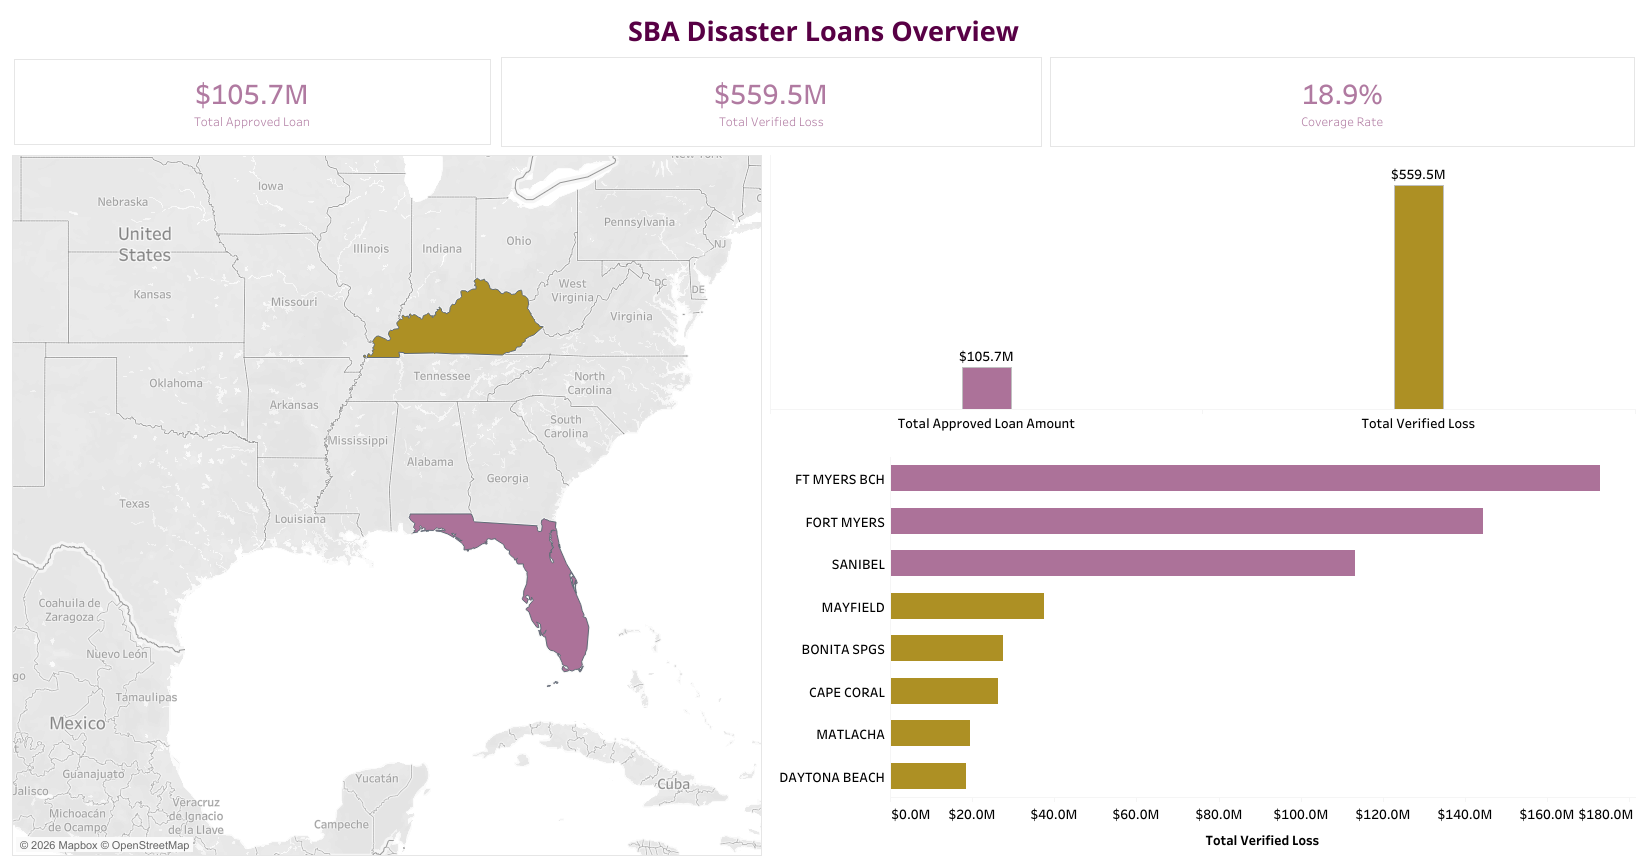

Layout of this report page (visuals, bound fields, positions):
{"tool":"tableau","page":{"name":"Dashboard 1","canvas":[1000,1000],"units":"permille","ordinal":0},"visuals":[{"type":"title","box":[4.9,9.2,990.3,51.9]},{"type":"worksheet","title":"Sheet 4","mark":"Automatic","box":[4.9,61.1,297.2,113.2]},{"type":"worksheet","title":"Sheet 4 (2)","mark":"Automatic","box":[302,61.1,333.3,113.2]},{"type":"worksheet","title":"Sheet 4 (3)","mark":"Automatic","box":[635.4,61.1,359.8,113.2]},{"type":"worksheet","title":"Sheet 2","mark":"Automatic","box":[4.9,174.3,460.2,816.5]},{"type":"worksheet","title":"Sheet 3","mark":"Automatic","box":[465,174.3,530.1,347.5]},{"type":"worksheet","title":"Sheet 1","mark":"Automatic","rows":["Damaged Property City Name"],"cols":["Total Verified Loss"],"box":[465,521.8,530.1,469]}]}

Visuals, with their boxes on the dashboard's canvas, which has no fixed pixel size, in thousandths of its width and height (x1, y1, x2, y2). These are canvas units, not pixel positions in the 1646x867 screenshot, which may show the page scaled, cropped or inside an application window:
title: <box>5,9,995,61</box>
"Sheet 4" worksheet: <box>5,61,302,174</box>
"Sheet 4 (2)" worksheet: <box>302,61,635,174</box>
"Sheet 4 (3)" worksheet: <box>635,61,995,174</box>
"Sheet 2" worksheet: <box>5,174,465,991</box>
"Sheet 3" worksheet: <box>465,174,995,522</box>
"Sheet 1" worksheet: <box>465,522,995,991</box>
